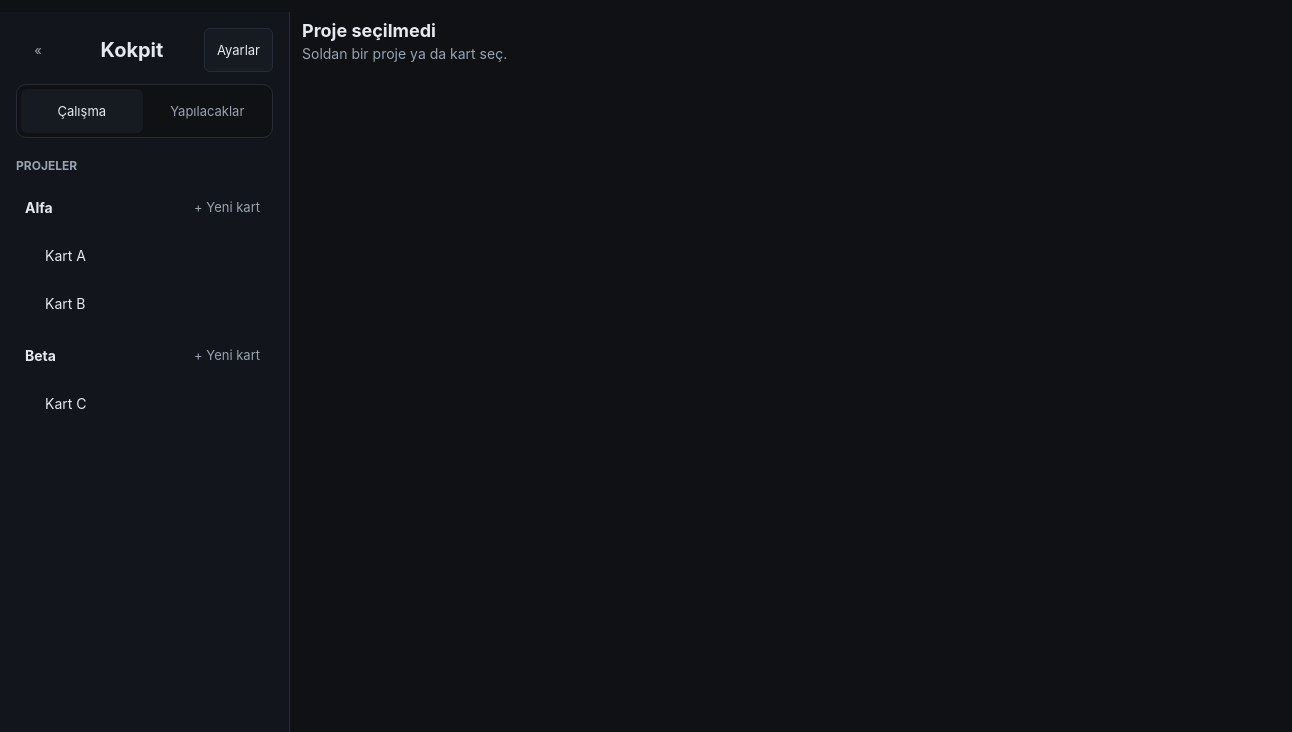
Test case: Workbench › creates a card inline and selects it
Click the button with aria-label "Yeni kart: Alfa" at (227, 207), box [181,185,273,229]
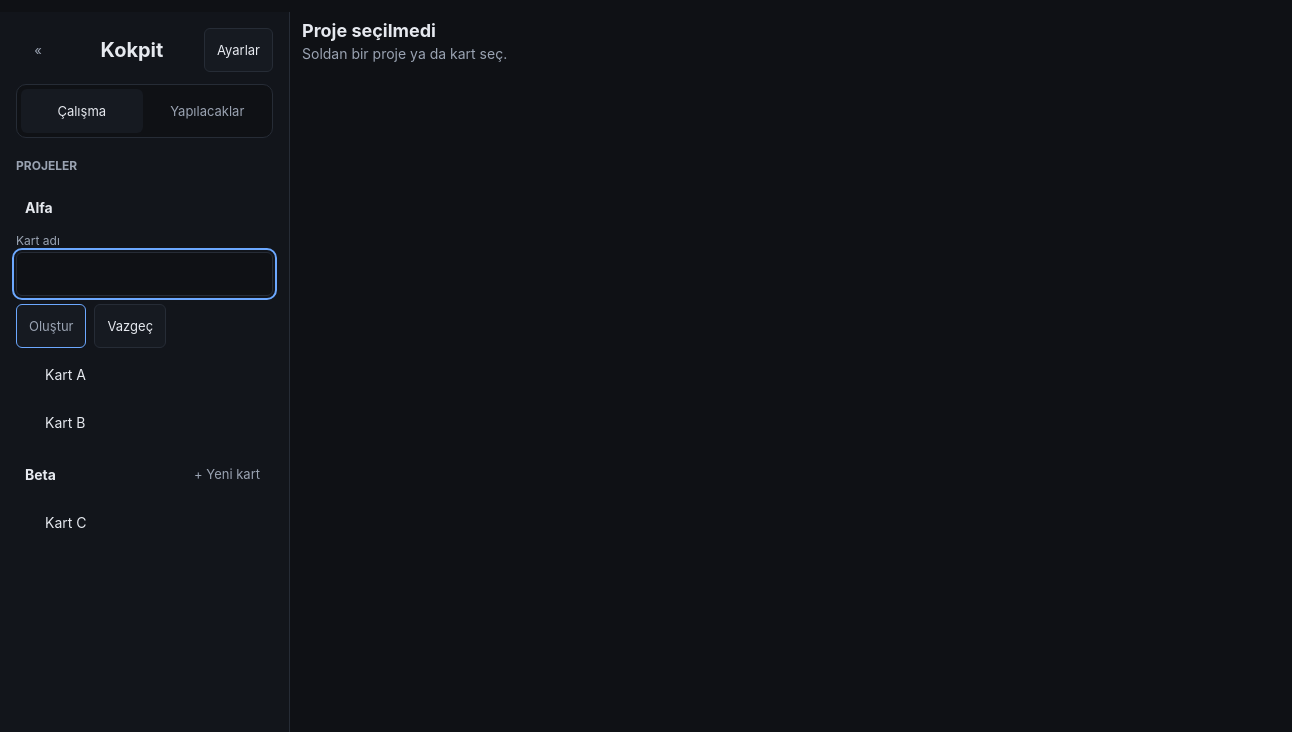
Now the button "Oluştur" is disabled, box [16,304,86,348]
Type "  Yeni iş " into the field labelled "Kart adı" at (144, 274), box [16,252,273,296]
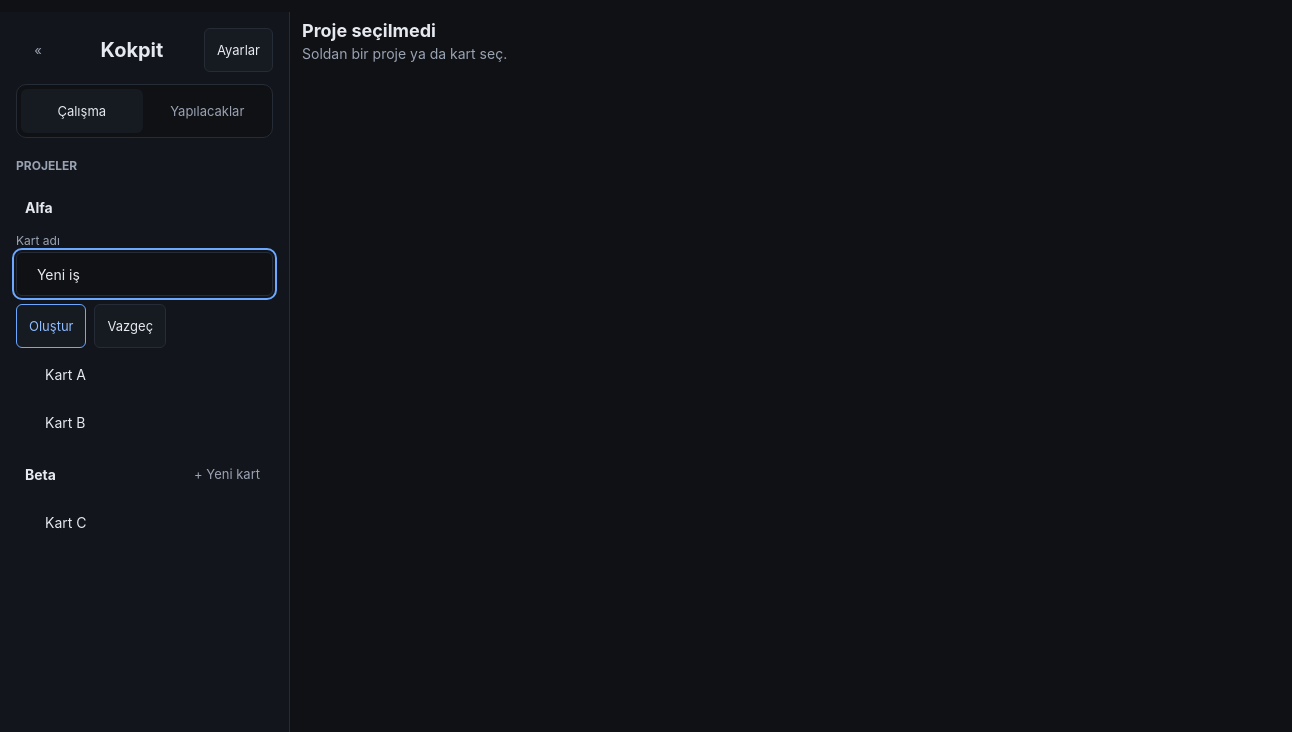
Click the button "Oluştur" at (51, 326), box [16,304,86,348]
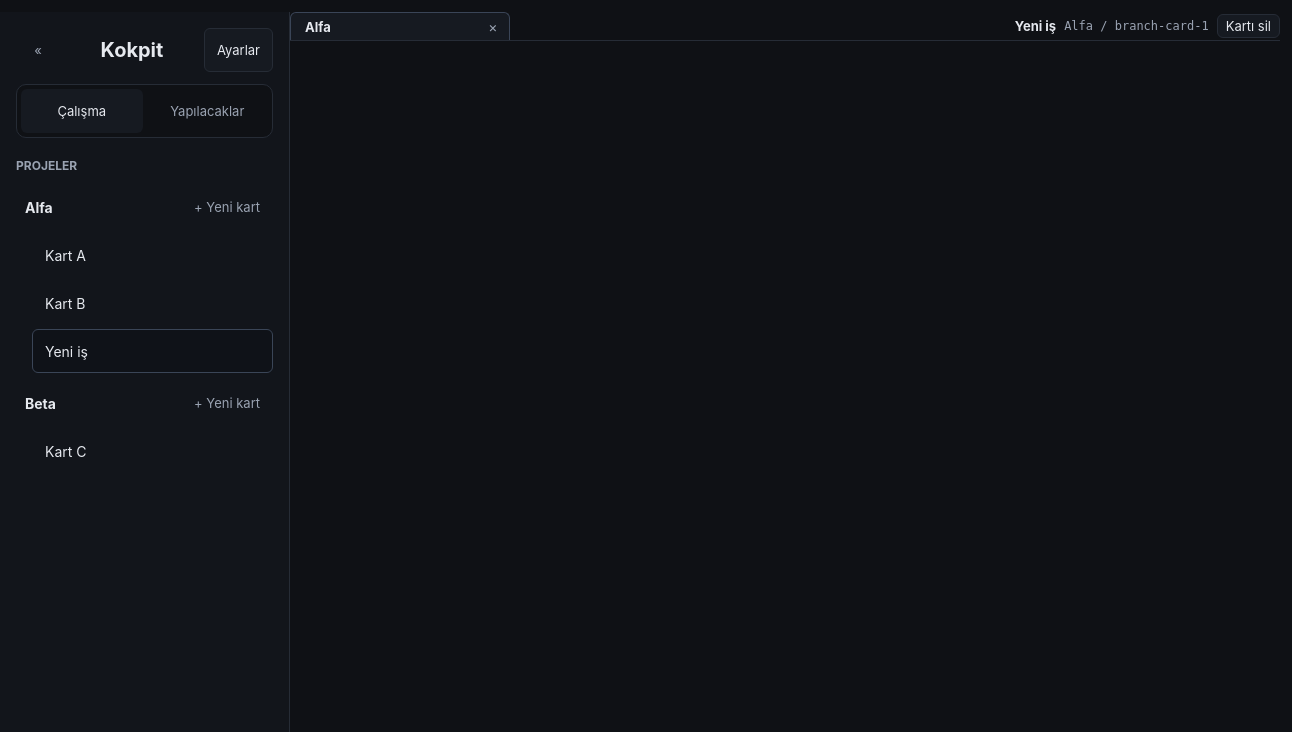
Now the heading "Yeni iş" is shown, box [1015,18,1056,34]
